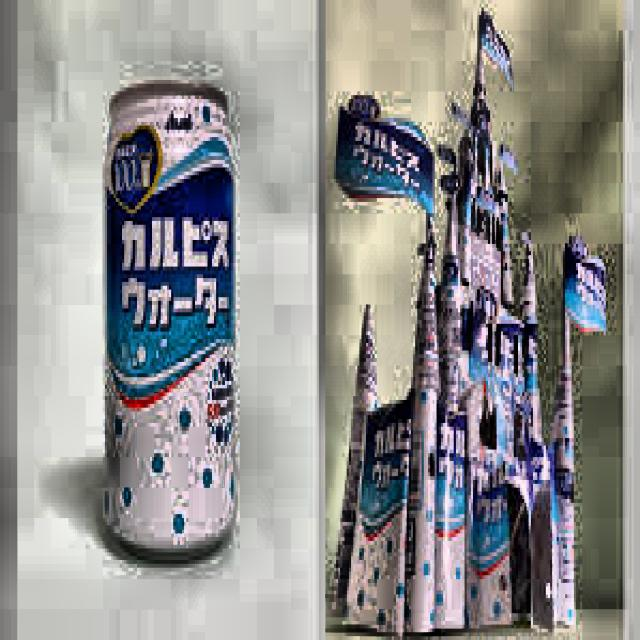can: (96, 63, 248, 593)
